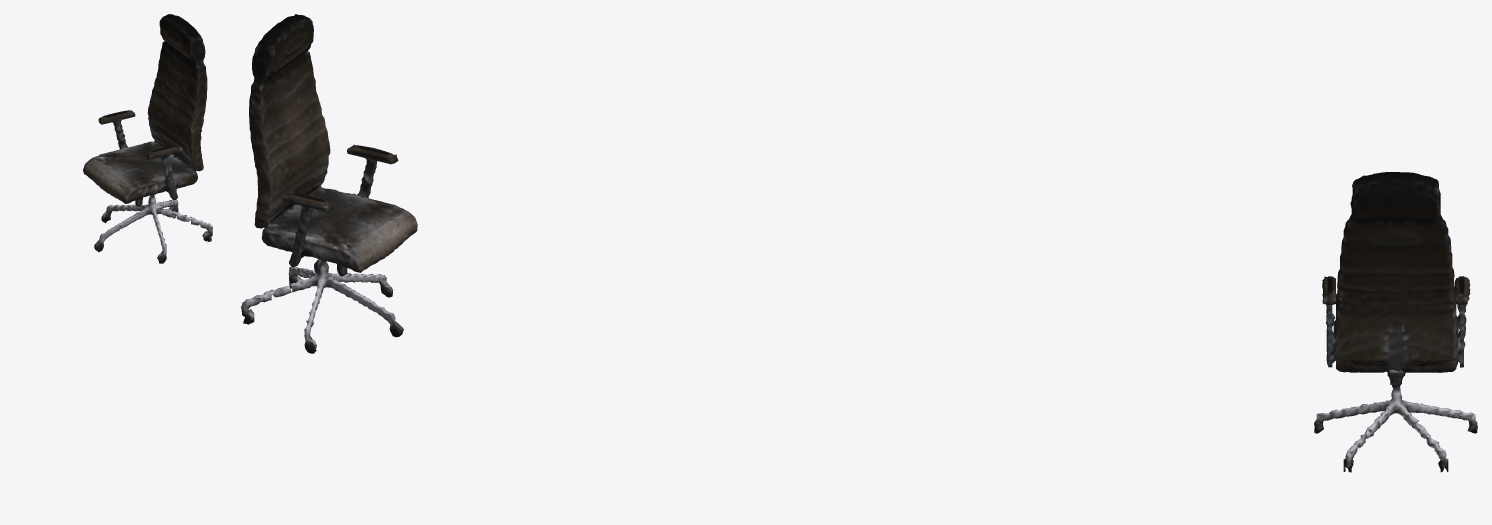
3 renders of one model, left to right at view 1: azimuth 30°, elevation 25°; view 2: azimuth 150°, elevation 25°; view 3: azimuth 270°, elevation 25°, orthographic. The views are drawn at different scales.
Size of the model in its own units: 3.32 by 3.41 by 3.15.
